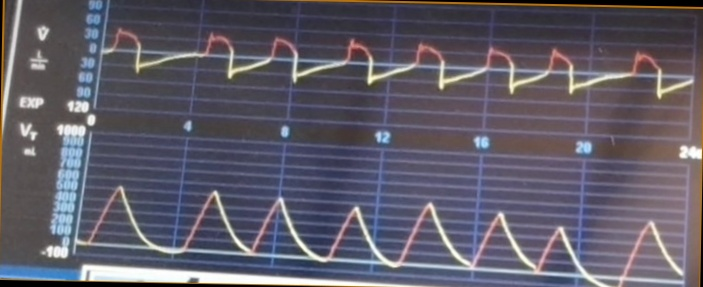Normal Flow: (104, 14, 693, 114)
Normal Volume: (83, 178, 682, 284)
